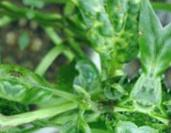Tomato leaf mosaic virus: (22, 0, 155, 74), (6, 65, 57, 119), (51, 104, 109, 133)
